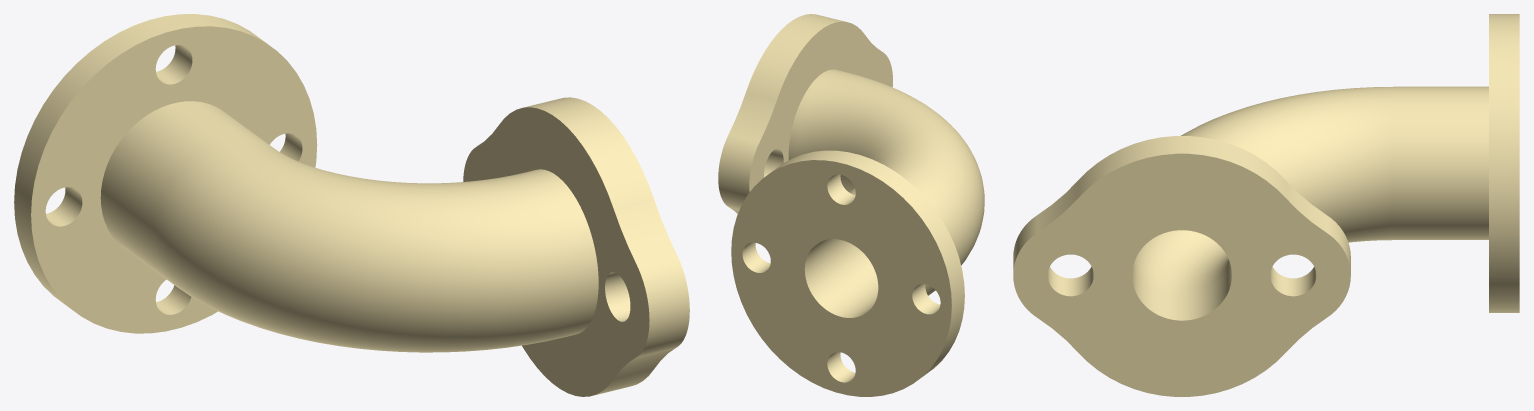
The model's file is Mancal com Curva.glb.
3 renders of one model, left to right at view 1: azimuth 30°, elevation 25°; view 2: azimuth 150°, elevation 25°; view 3: azimuth 270°, elevation 25°, orthographic. The views are drawn at different scales.
Parts seen in each view (by area): view 1: Part 1; view 2: Part 1; view 3: Part 1.
Part boxes in pixels (left/top/right/bottom): Part 1: left=14, top=14, right=689, bottom=396; Part 1: left=718, top=14, right=984, bottom=396; Part 1: left=1013, top=14, right=1519, bottom=396.
Size of the model in its own units: 0.108 by 0.0779 by 0.132.
